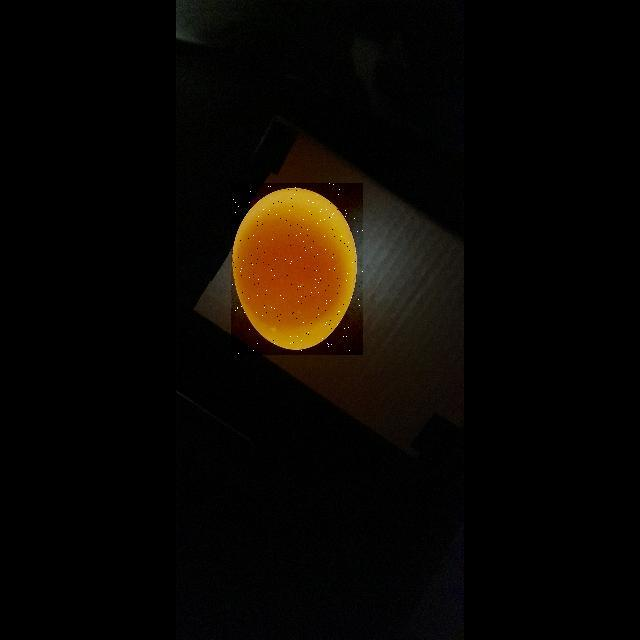Fertile: (231, 183, 363, 355)
